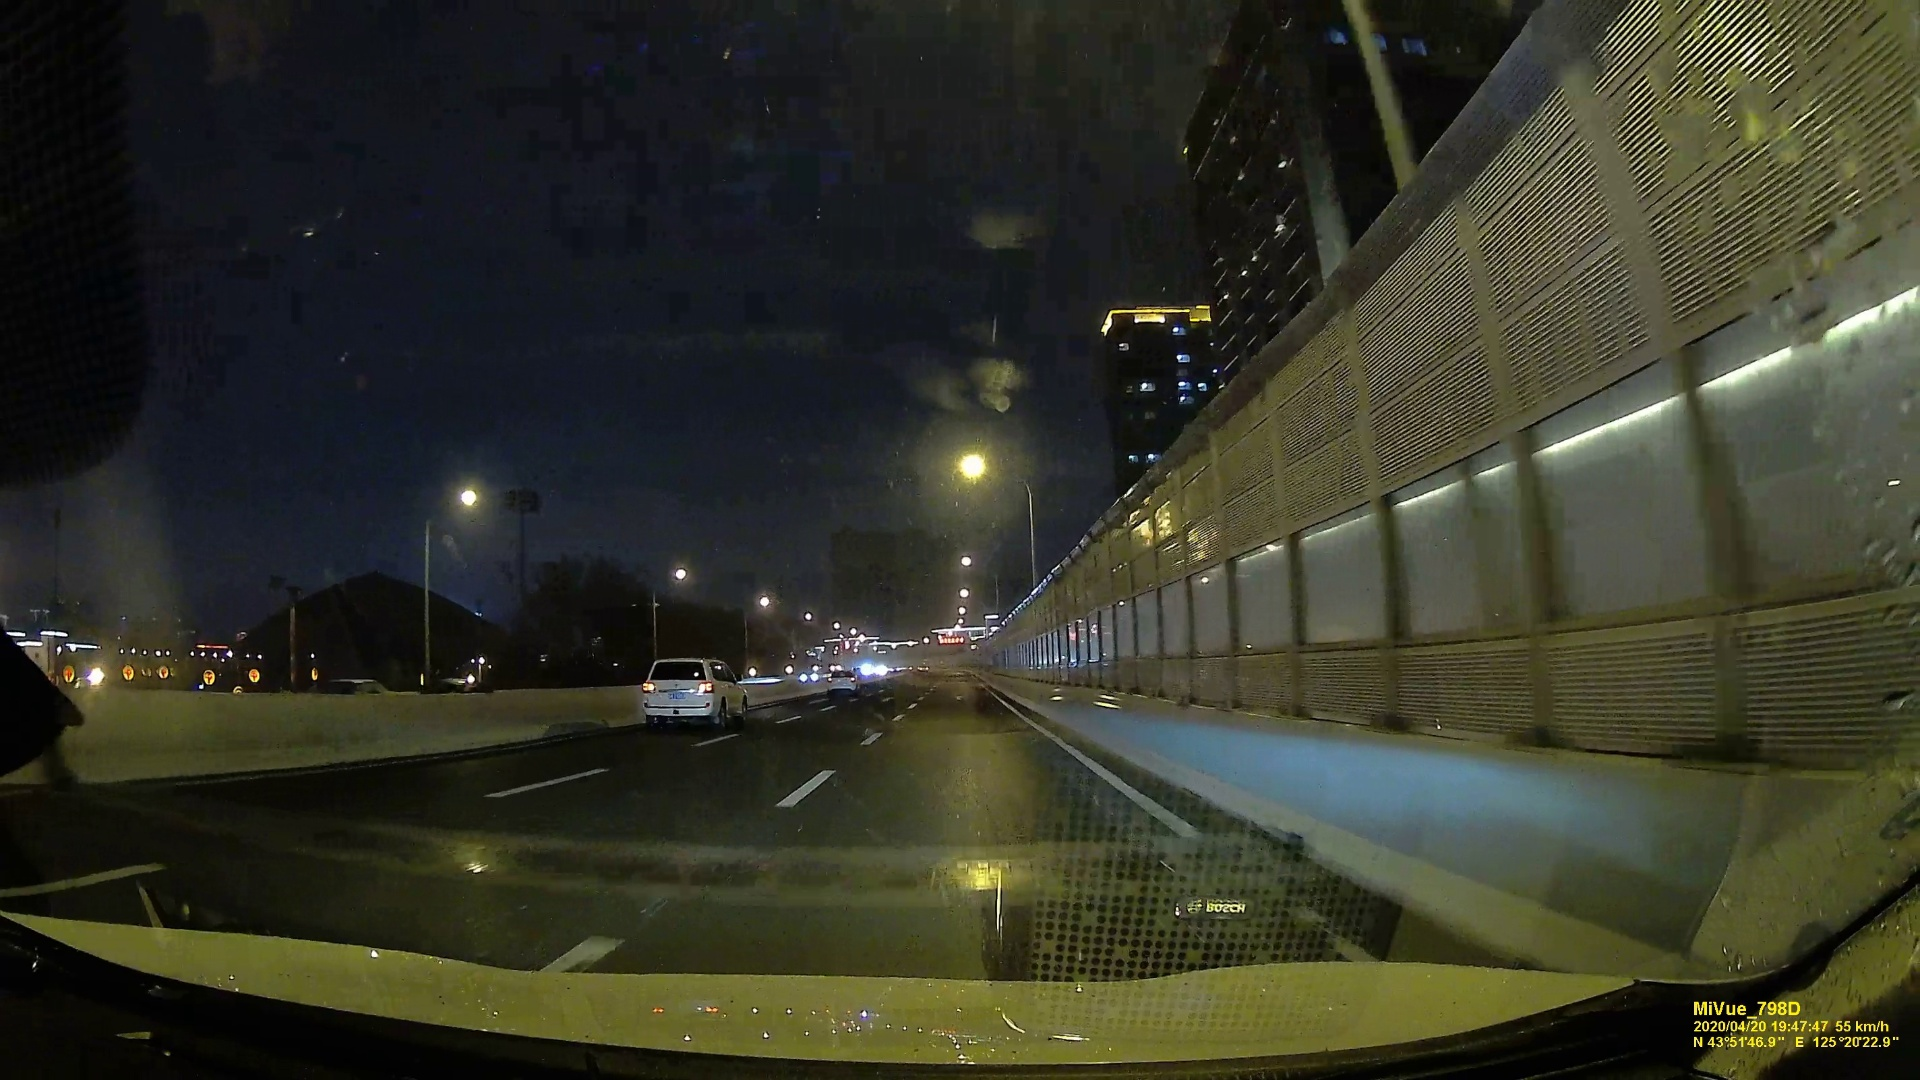vehicle: (640, 655, 750, 728), (825, 671, 861, 694)
